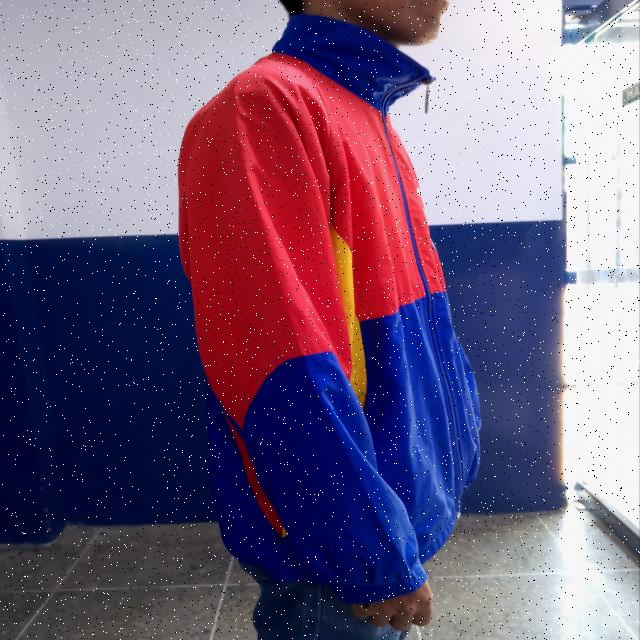chaqueta_unefa: (175, 13, 485, 604)
